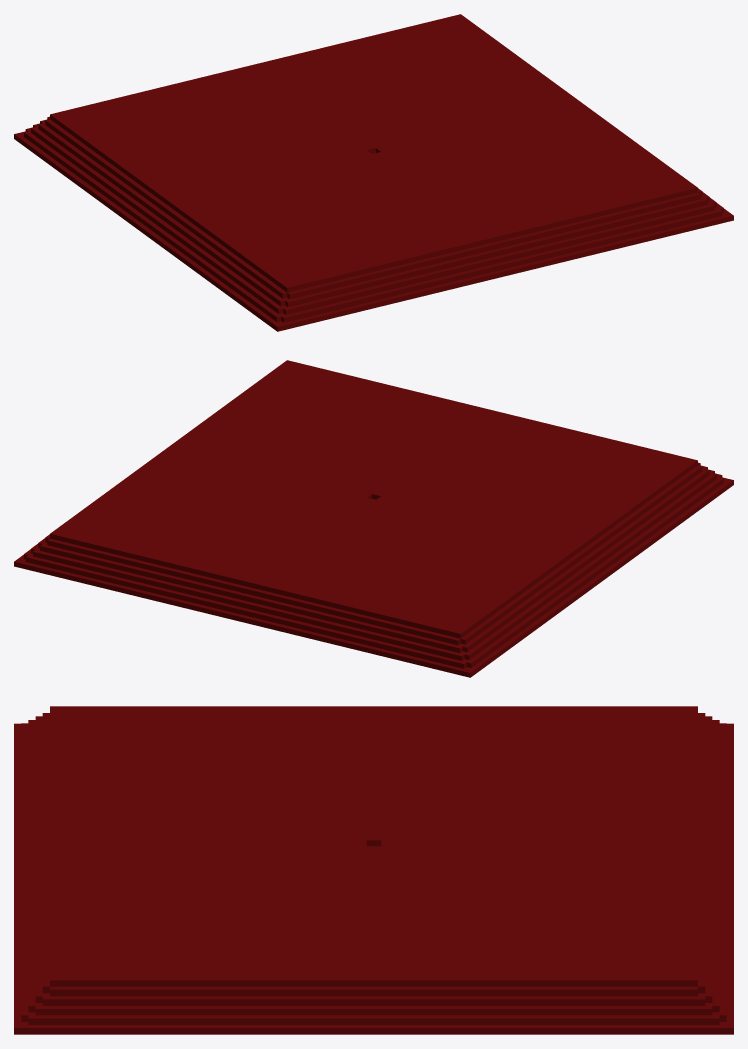
File: Bowling no details-1.obj
3 views of the same model, one above another, from view 1: azimuth 30°, elevation 25°; view 2: azimuth 150°, elevation 25°; view 3: azimuth 270°, elevation 25° (orthographic). The views are drawn at different scales.
Visible parts, largest first — view 1: Bowling no details-1; view 2: Bowling no details-1; view 3: Bowling no details-1.
Part boxes in pixels (<box>): Bowling no details-1: <box>14,14,733,331</box>; Bowling no details-1: <box>14,360,733,677</box>; Bowling no details-1: <box>14,706,733,1034</box>.
Bounding box in the file's own units: 100 × 6 × 100.
